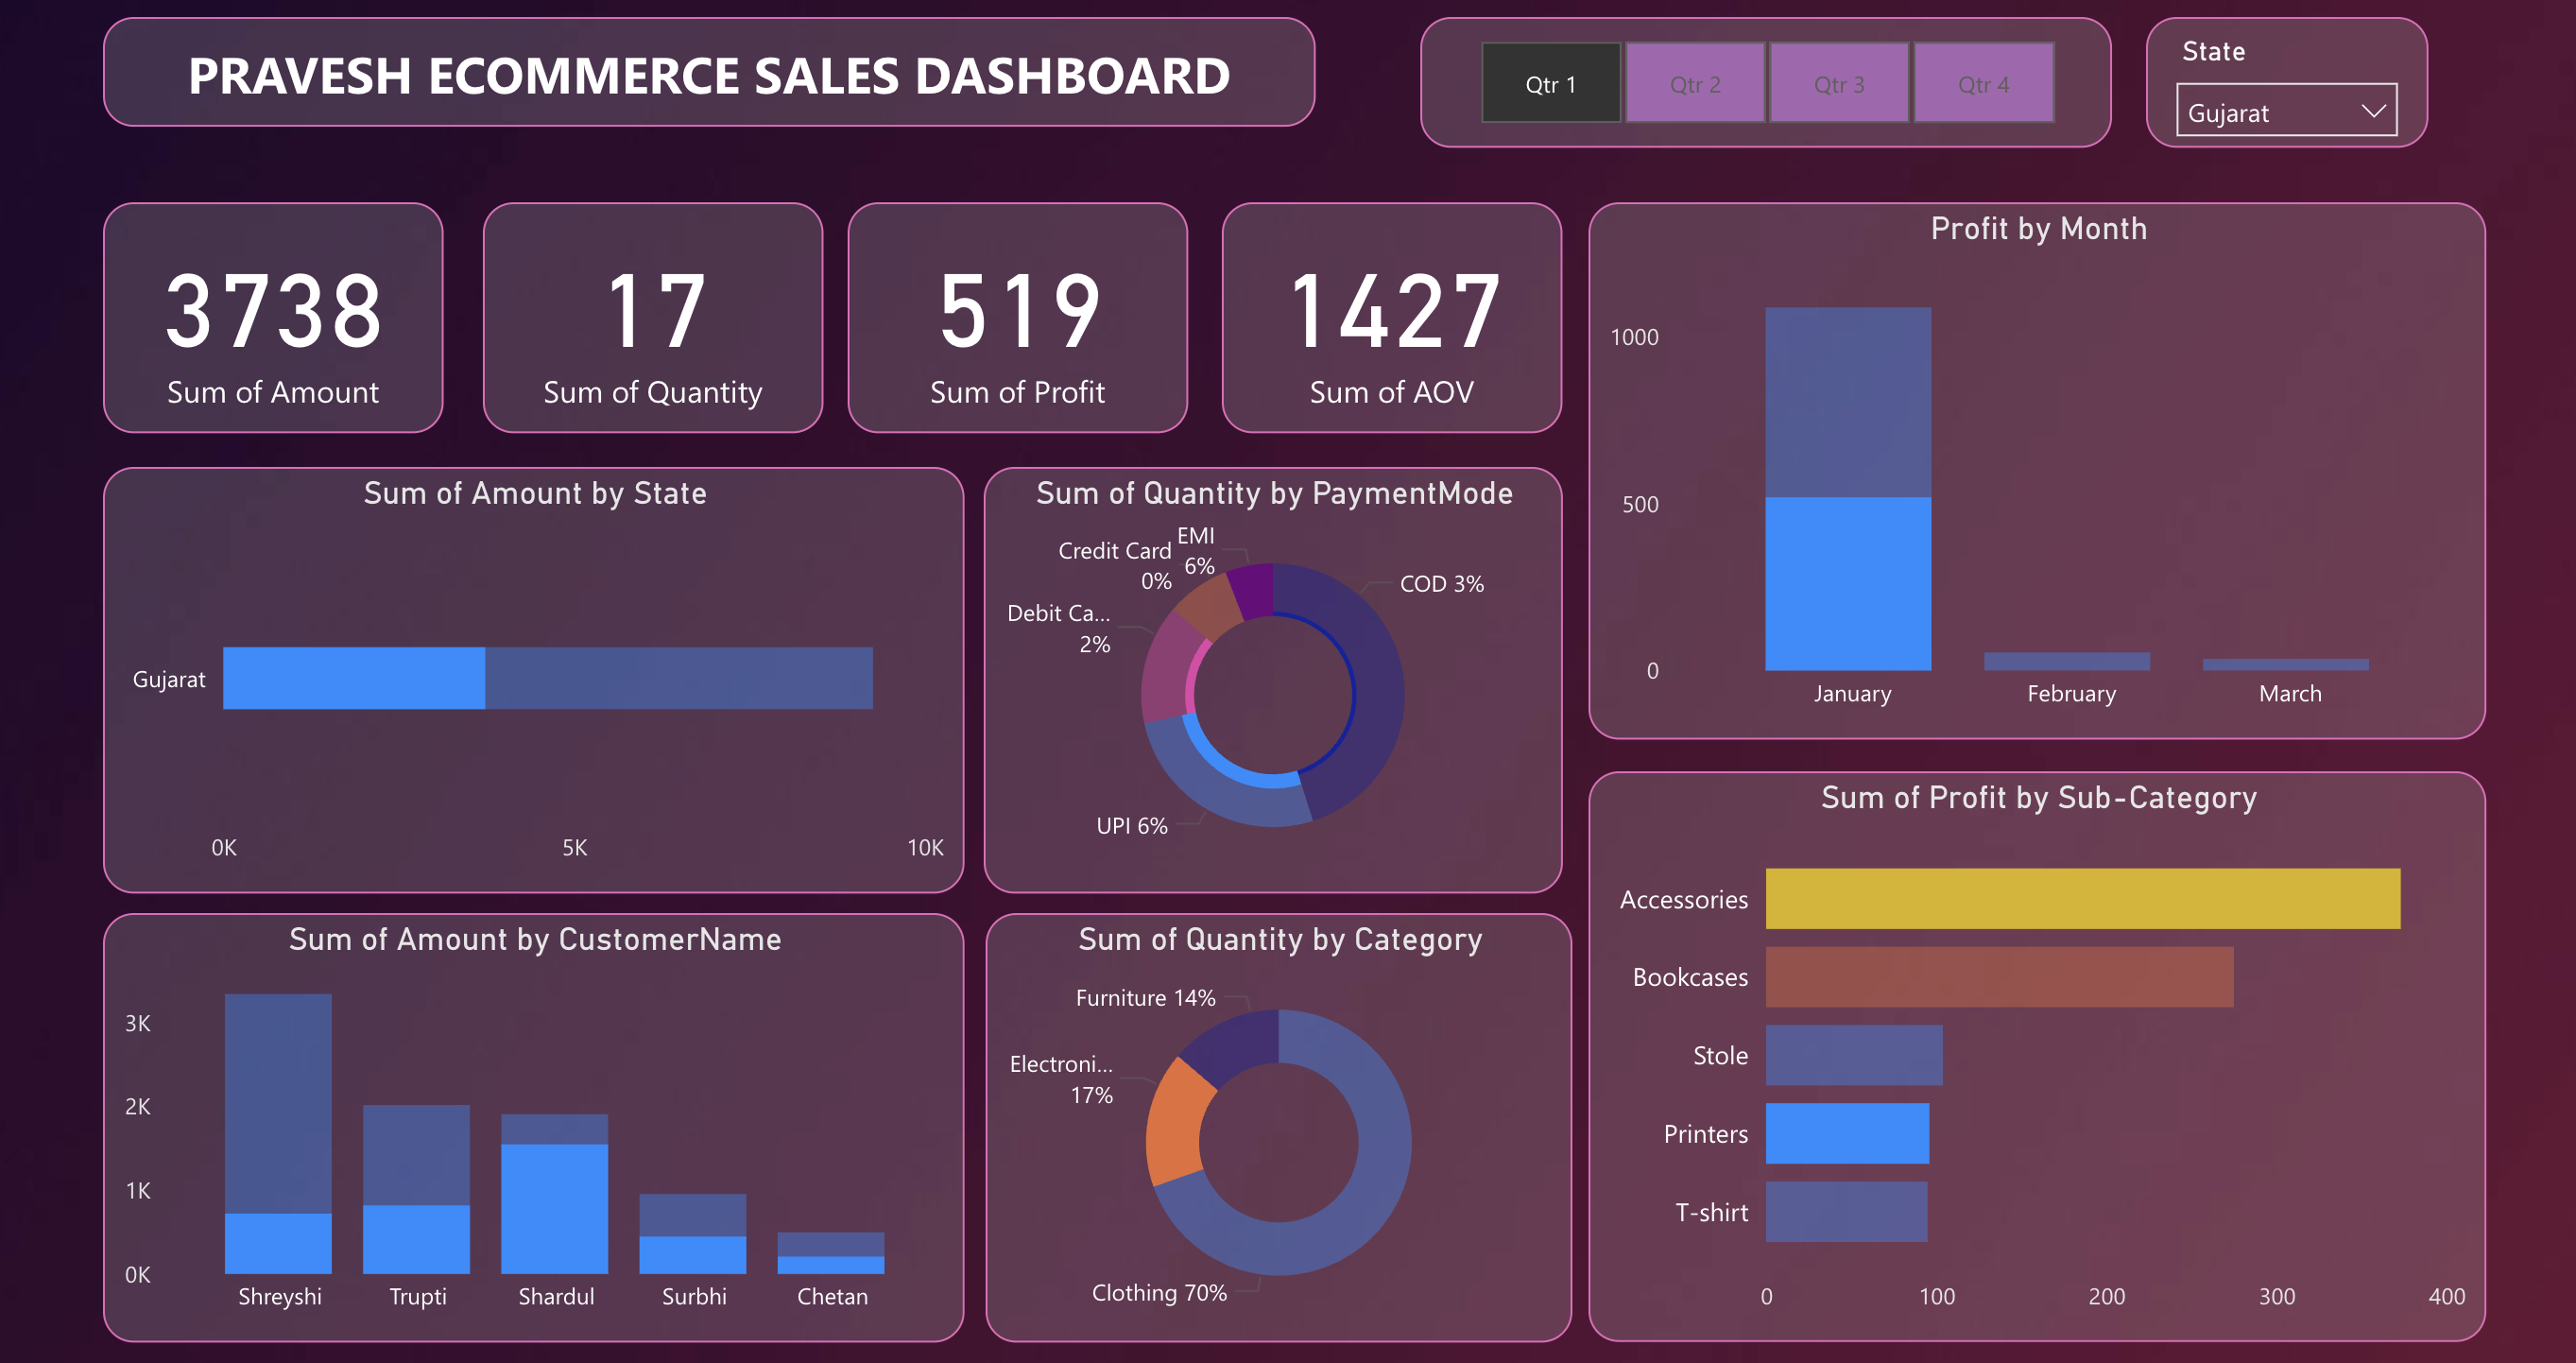

This screenshot's page, from the dashboard's own definition file:
{"tool":"powerbi","page":{"name":"Page 1","canvas":[1280,720],"ordinal":0},"visuals":[{"type":"textbox","box":[19.2,11,635.3,57.6],"z":0},{"type":"columnChart","title":"Profit by Month","fields":{"Y":["Details.Profit"],"Category":["Orders.Order Date.Variation.Date Hierarchy.Month"]},"box":[797.3,108.4,470.7,281.3],"z":1000},{"type":"barChart","fields":{"Category":["Details.Sub-Category"],"Y":["Details.Profit"]},"box":[797.3,406.2,470.7,299.1],"z":2000},{"type":"donutChart","fields":{"Category":["Details.Category"],"Y":["Details.Quantity"]},"box":[481.6,480.3,307.4,225],"z":3000},{"type":"donutChart","fields":{"Y":["Details.Quantity"],"Category":["Details.PaymentMode"]},"box":[480.3,247,303.3,223.7],"z":4000},{"type":"card","fields":{"Values":["Details.Amount"]},"box":[19.2,108.4,178.4,120.8],"z":6000},{"type":"card","fields":{"Values":["Details.Quantity"]},"box":[218.2,108.4,178.4,120.8],"z":7000},{"type":"card","fields":{"Values":["Details.Profit"]},"box":[408.9,108.4,178.4,120.8],"z":8000},{"type":"card","fields":{"Values":["Details.AOV"]},"box":[605.1,108.4,178.4,120.8],"z":9000},{"type":"barChart","fields":{"Category":["Orders.State"],"Y":["Details.Amount"]},"box":[19.2,247,451.5,223.7],"z":9001},{"type":"columnChart","fields":{"Category":["Orders.CustomerName"],"Y":["Details.Amount"]},"box":[19.2,480.3,451.5,225],"z":9002},{"type":"slicer","fields":{"Values":["Orders.Order Date.Variation.Date Hierarchy.Quarter"]},"box":[709.4,11,362.3,68.6],"z":9003},{"type":"slicer","fields":{"Values":["Orders.State"]},"box":[1089.5,11,148.2,68.6],"z":9004}]}

Visuals, with their boxes in screenshot pixels (x1, y1, x2, y2):
textbox: (left=84, top=8, right=1313, bottom=119)
"Profit by Month" columnChart: (left=1589, top=197, right=2499, bottom=740)
barChart - Details.Sub-Category x Details.Profit: (left=1589, top=772, right=2499, bottom=1351)
donutChart - Details.Category x Details.Quantity: (left=978, top=916, right=1572, bottom=1351)
donutChart - Details.Quantity x Details.PaymentMode: (left=976, top=464, right=1562, bottom=897)
card - Details.Amount: (left=84, top=197, right=429, bottom=430)
card - Details.Quantity: (left=469, top=197, right=814, bottom=430)
card - Details.Profit: (left=837, top=197, right=1183, bottom=430)
card - Details.AOV: (left=1217, top=197, right=1562, bottom=430)
barChart - Orders.State x Details.Amount: (left=84, top=464, right=957, bottom=897)
columnChart - Orders.CustomerName x Details.Amount: (left=84, top=916, right=957, bottom=1351)
slicer - Orders.Order Date.Variation.Date Hierarchy.Quarter: (left=1418, top=8, right=2120, bottom=141)
slicer - Orders.State: (left=2154, top=8, right=2441, bottom=141)
